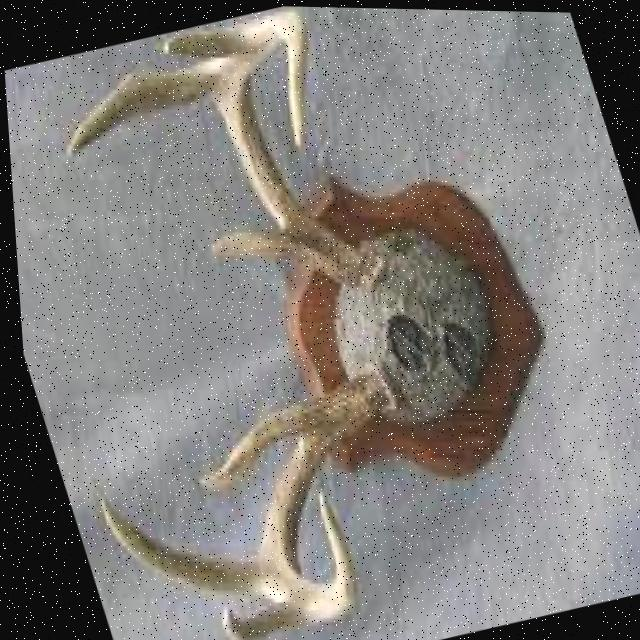L-G1: (204, 229, 293, 264)
L-G2: (60, 57, 218, 160)
L-G3: (157, 20, 238, 58)
L-R: (218, 6, 372, 289)
R-G1: (181, 399, 303, 492)
R-G2: (89, 494, 255, 596)
R-G3: (209, 602, 296, 640)
R-R: (249, 372, 380, 628)
